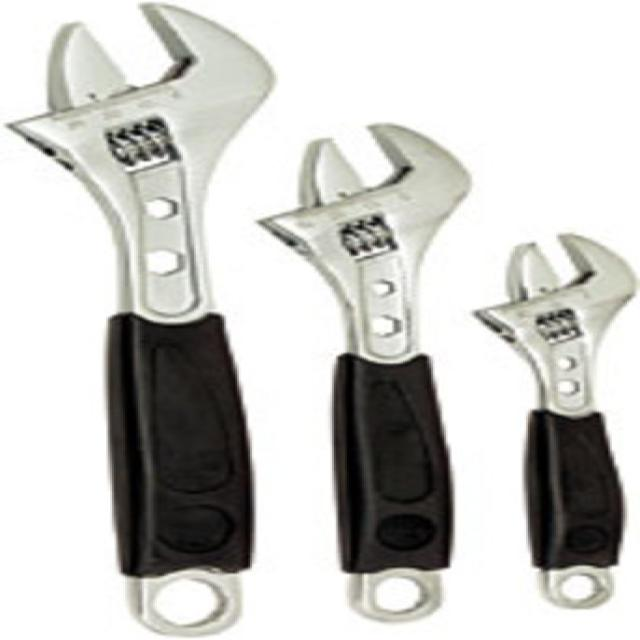wrench: (3, 0, 278, 632), (244, 117, 498, 636), (462, 221, 640, 614)
